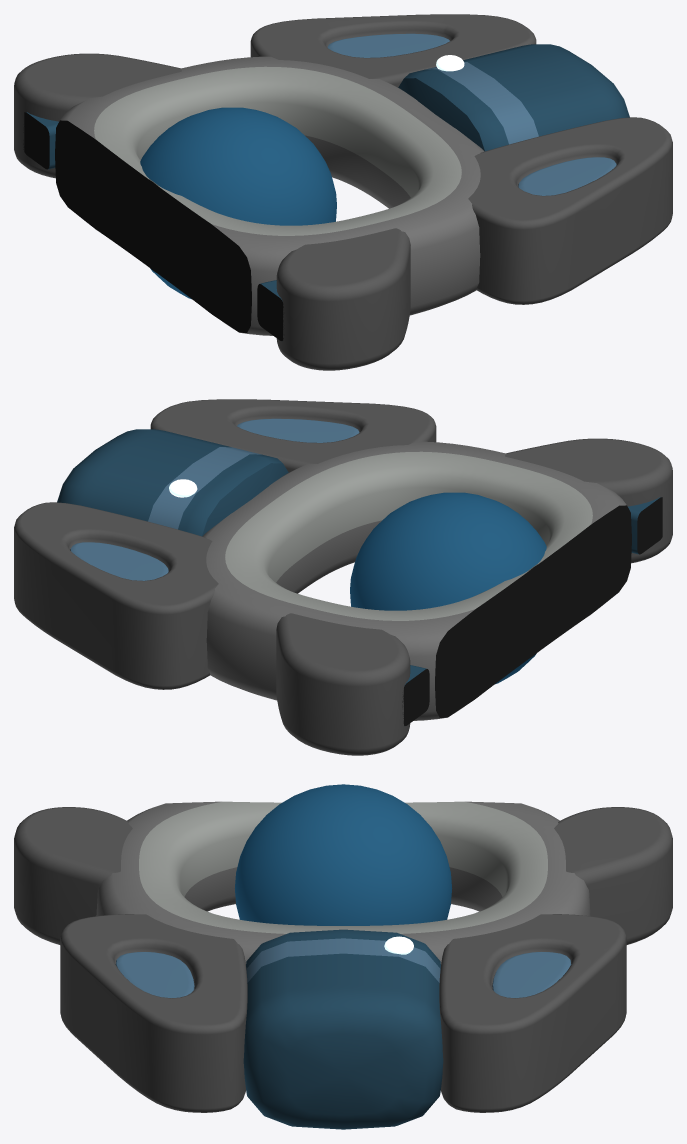
The model's file is ringship_ring.glb.
The picture shows the model from 3 angles, top to bottom: view 1: azimuth 30°, elevation 25°; view 2: azimuth 150°, elevation 25°; view 3: azimuth 270°, elevation 25°; orthographic projection. The views are drawn at different scales.
Parts seen in each view (by area): view 1: ring.001, arm_r.003, sphere.001, arm_l.003, block.001, arm_r.002, arm_l.002, body.001, panel.003, panel.002, claw.002, claw.003; view 2: ring.001, arm_r.002, sphere.001, arm_l.002, block.001, arm_r.003, arm_l.003, body.001, panel.002, panel.003, claw.003, claw.002; view 3: block.001, ring.001, arm_r.003, arm_r.002, sphere.001, arm_l.002, arm_l.003, panel.002, panel.003.
Boxes of the visible parts, x1=… form: ring.001: x1=55, y1=56, x2=484, y2=335; arm_r.003: x1=468, y1=117, x2=672, y2=304; sphere.001: x1=129, y1=107, x2=336, y2=299; arm_l.003: x1=276, y1=228, x2=410, y2=370; block.001: x1=398, y1=44, x2=629, y2=151; arm_r.002: x1=250, y1=14, x2=536, y2=87; arm_l.002: x1=14, y1=53, x2=181, y2=178; body.001: x1=119, y1=177, x2=187, y2=277; panel.003: x1=518, y1=157, x2=616, y2=195; panel.002: x1=327, y1=33, x2=449, y2=57; claw.002: x1=23, y1=112, x2=58, y2=169; claw.003: x1=257, y1=280, x2=283, y2=341; ring.001: x1=202, y1=441, x2=631, y2=720; arm_r.002: x1=14, y1=502, x2=218, y2=689; sphere.001: x1=350, y1=492, x2=550, y2=684; arm_l.002: x1=276, y1=613, x2=410, y2=755; block.001: x1=57, y1=429, x2=288, y2=536; arm_r.003: x1=150, y1=399, x2=436, y2=472; arm_l.003: x1=505, y1=438, x2=672, y2=563; body.001: x1=499, y1=561, x2=558, y2=662; panel.002: x1=70, y1=542, x2=168, y2=580; panel.003: x1=237, y1=418, x2=359, y2=442; claw.003: x1=628, y1=497, x2=662, y2=554; claw.002: x1=402, y1=665, x2=429, y2=726; block.001: x1=243, y1=929, x2=443, y2=1129; ring.001: x1=96, y1=801, x2=590, y2=963; arm_r.003: x1=60, y1=914, x2=247, y2=1112; arm_r.002: x1=439, y1=914, x2=626, y2=1112; sphere.001: x1=234, y1=784, x2=452, y2=925; arm_l.002: x1=554, y1=807, x2=672, y2=944; arm_l.003: x1=14, y1=807, x2=132, y2=944; panel.002: x1=492, y1=952, x2=571, y2=997; panel.003: x1=115, y1=952, x2=194, y2=997.
Size of the model in its own units: 19.7 by 7.6 by 24.25.
